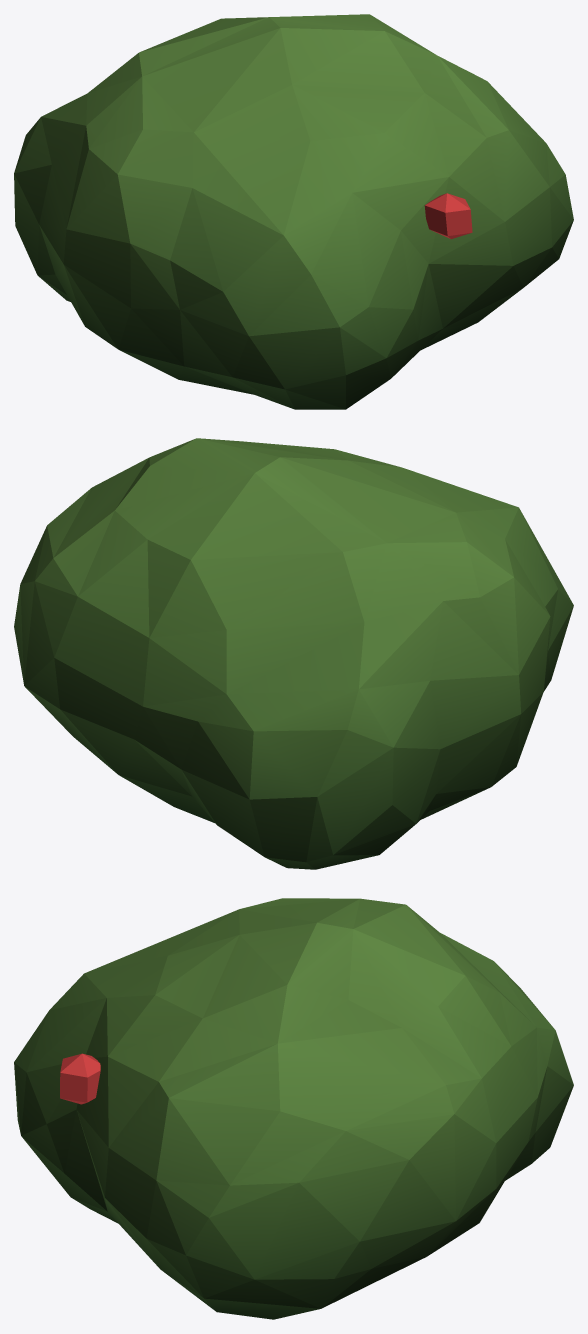
File: krzak_1.glb
The picture shows the model from 3 angles, top to bottom: view 1: azimuth 30°, elevation 25°; view 2: azimuth 150°, elevation 25°; view 3: azimuth 270°, elevation 25°; orthographic projection. The views are drawn at different scales.
Parts seen in each view (by area): view 1: krzak_1; view 2: krzak_1; view 3: krzak_1.
Part boxes in pixels (x1,y1,x2,y2): krzak_1: (14, 14, 573, 409); krzak_1: (14, 438, 573, 869); krzak_1: (14, 898, 573, 1319).
Size of the model in its own units: 0.735 by 0.5063 by 0.7366.
